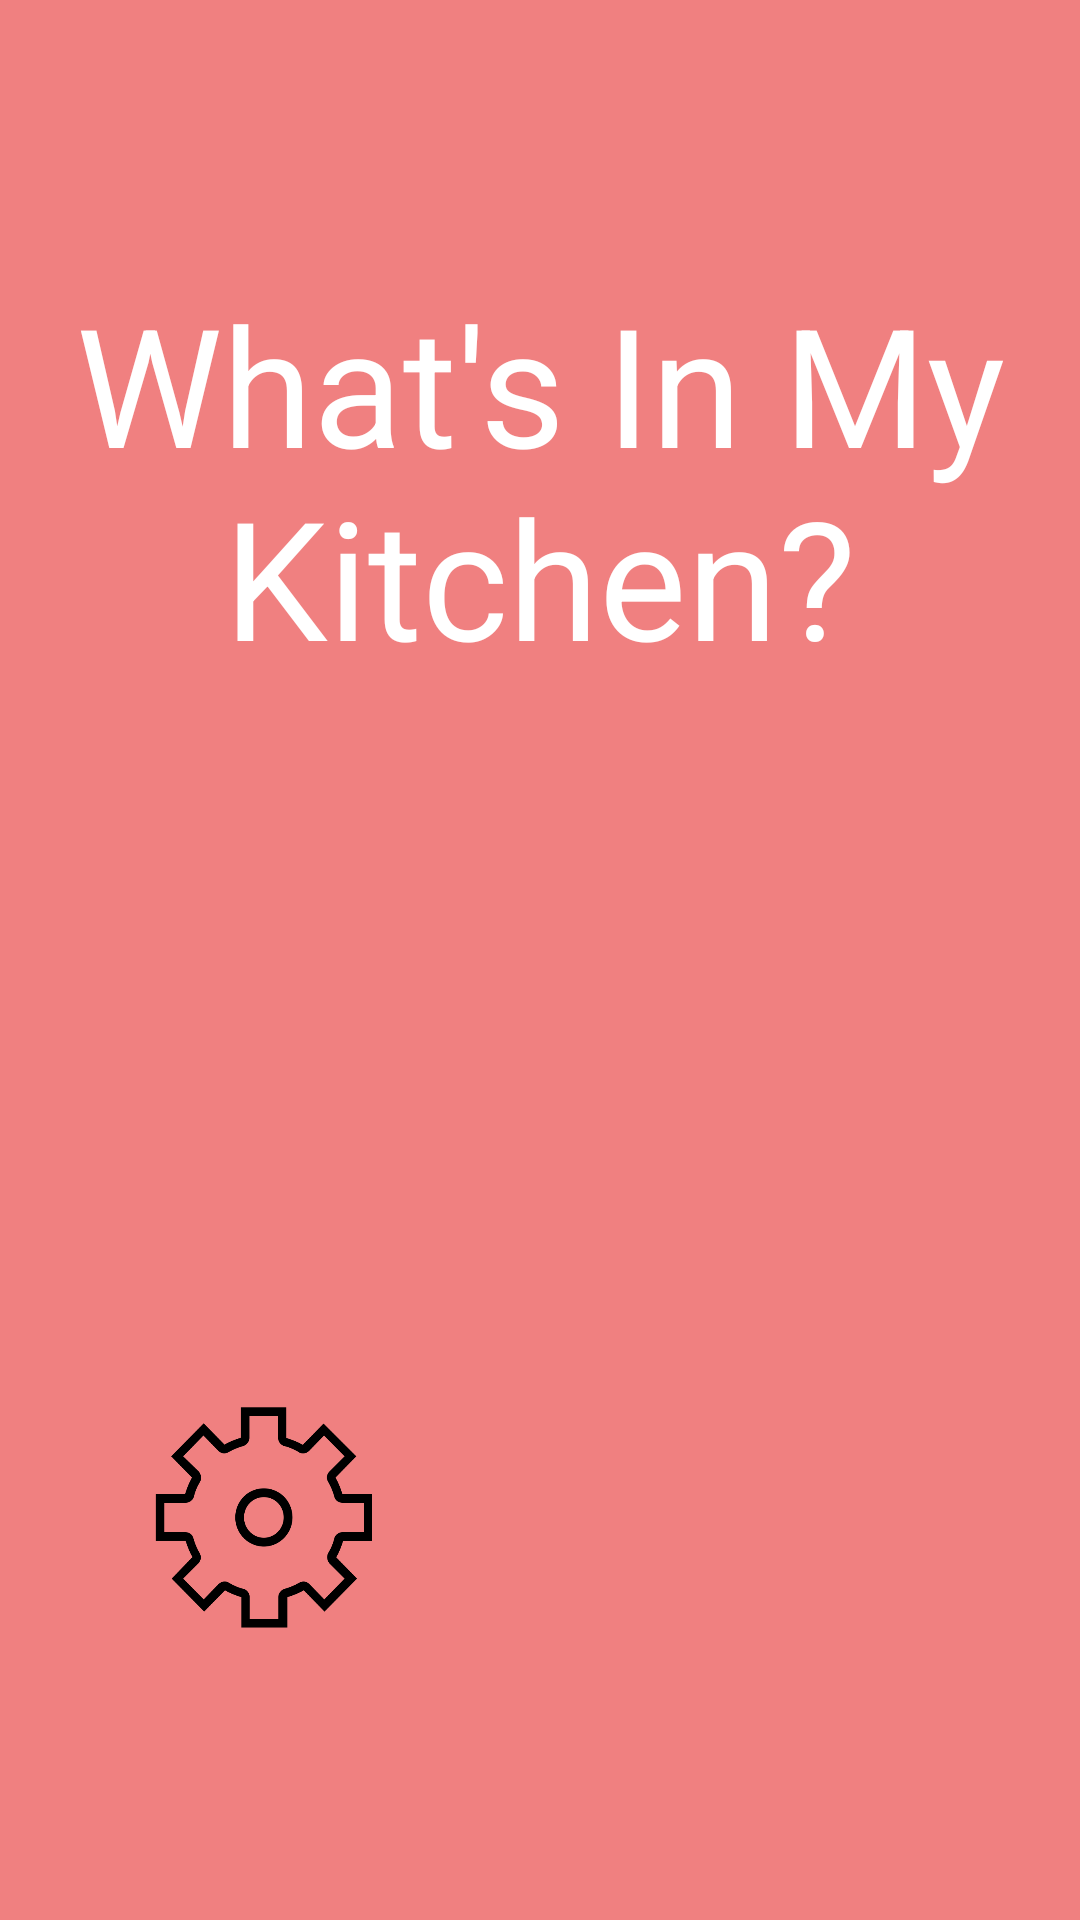

Screen size 1080px×1920px. Icon name, then its center in pixels as (x=x, y=y):
settings by hysen drogu: (x=263, y=1517)
